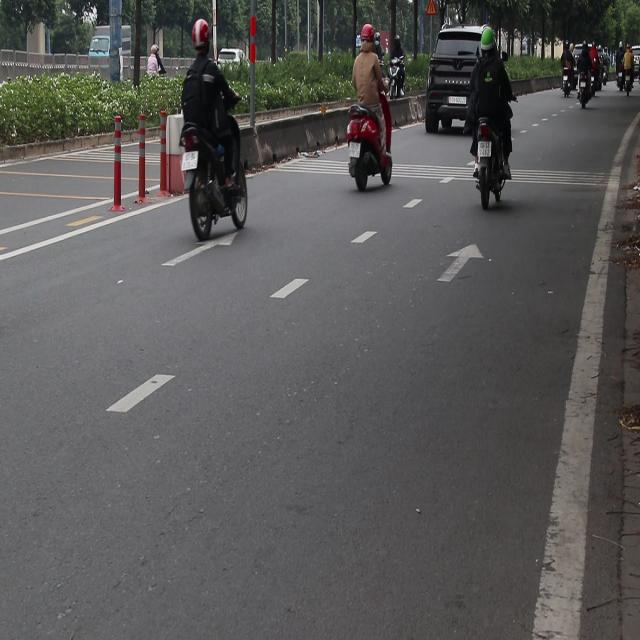car: (424, 28, 490, 138), (218, 28, 252, 84)
motorbike: (183, 126, 250, 242), (470, 119, 516, 219), (346, 103, 394, 191), (574, 67, 588, 110), (625, 65, 634, 112), (563, 69, 576, 98), (596, 62, 606, 95), (585, 68, 593, 97)
truck: (88, 20, 138, 76)
